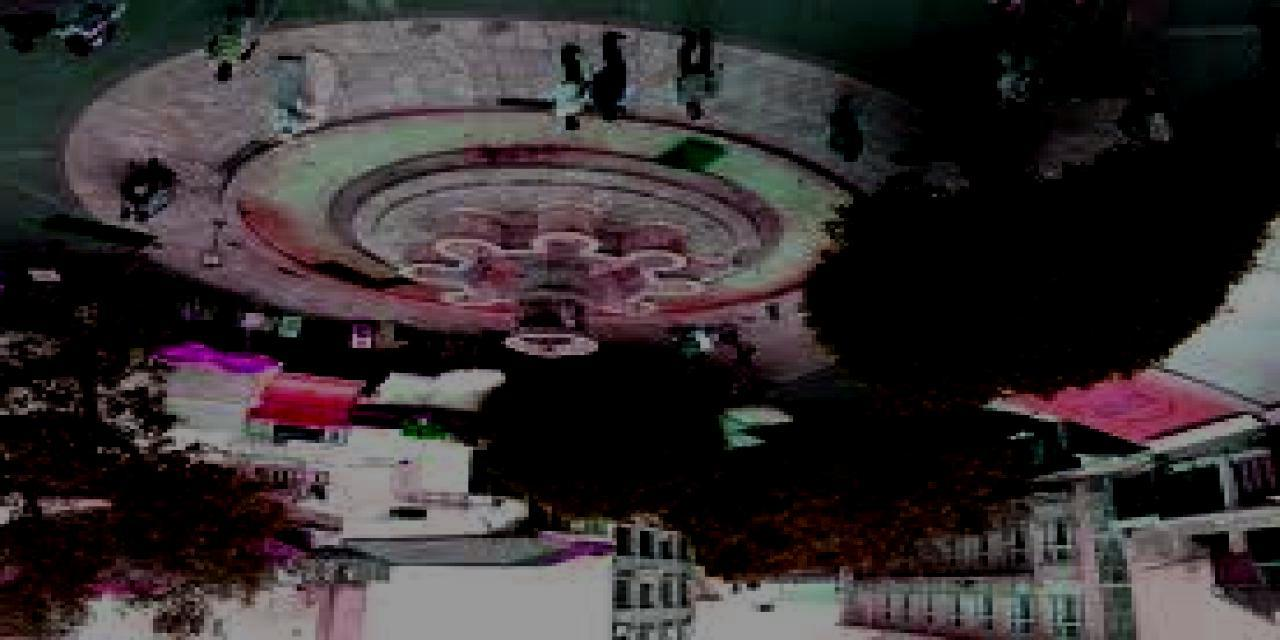Liontaria: (403, 206, 706, 366)
